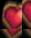heart: (0, 0, 22, 29), (22, 0, 31, 29), (0, 29, 22, 38), (22, 29, 31, 38)
